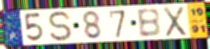5: (24, 11, 46, 43)
7: (108, 10, 127, 39)
8: (81, 9, 103, 40)
B: (135, 7, 163, 39)
S: (47, 10, 76, 43)
X: (162, 5, 188, 38)
